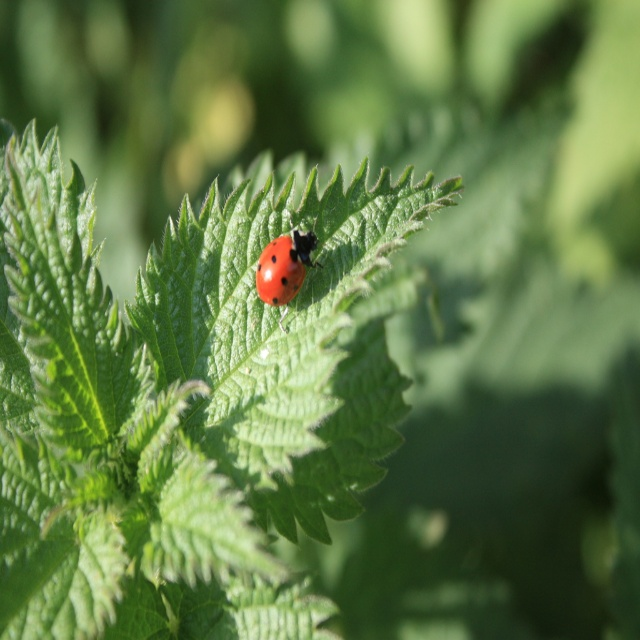Ladybug: (253, 222, 322, 307)
